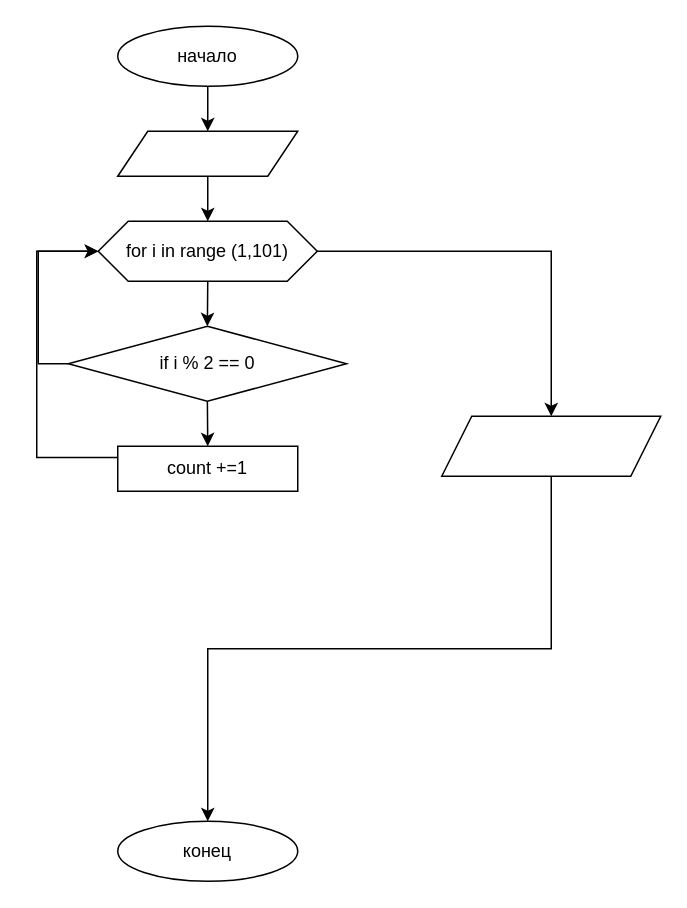
Some shapes in this 687 by 908 pixel diagram are drawn without their labels. The shapes that lost their labels are listed below. From the top down, each one's centre as x and y in pixels, then its label:
At [207,153]: "count = 0".
At [550,445]: "print(count)".
